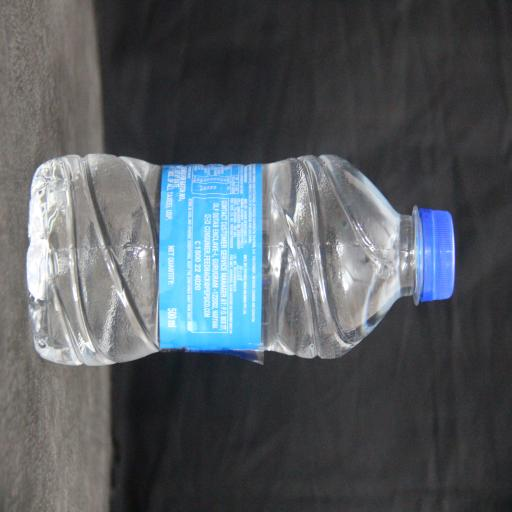Aquafina: (82, 50, 255, 512)
